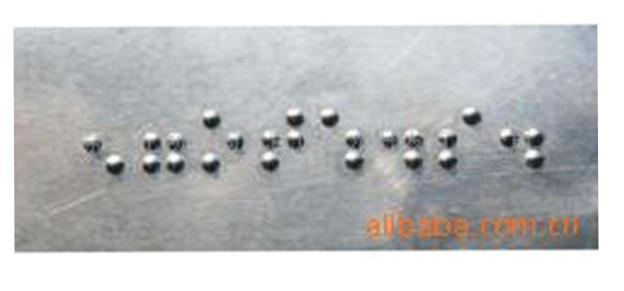Braille: (499, 108, 545, 170), (202, 110, 245, 174), (82, 110, 124, 175), (438, 107, 481, 170), (141, 112, 185, 173), (321, 109, 365, 169), (265, 109, 306, 173), (381, 107, 422, 171)
